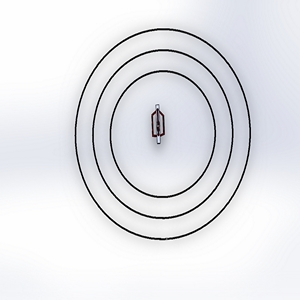circle: (68, 21, 257, 246)
submarine: (142, 99, 178, 149)
